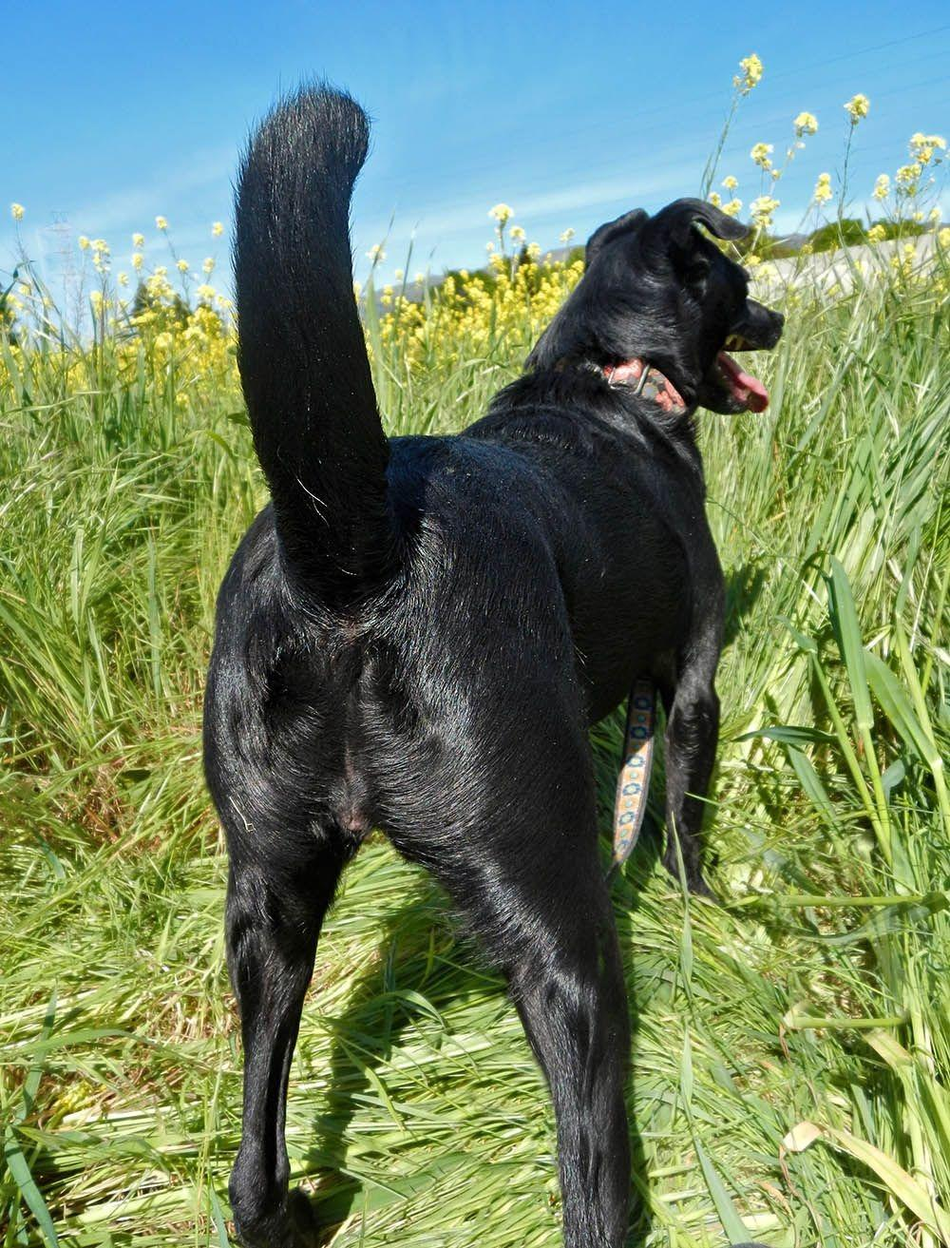adult_dog: (199, 69, 793, 1248)
